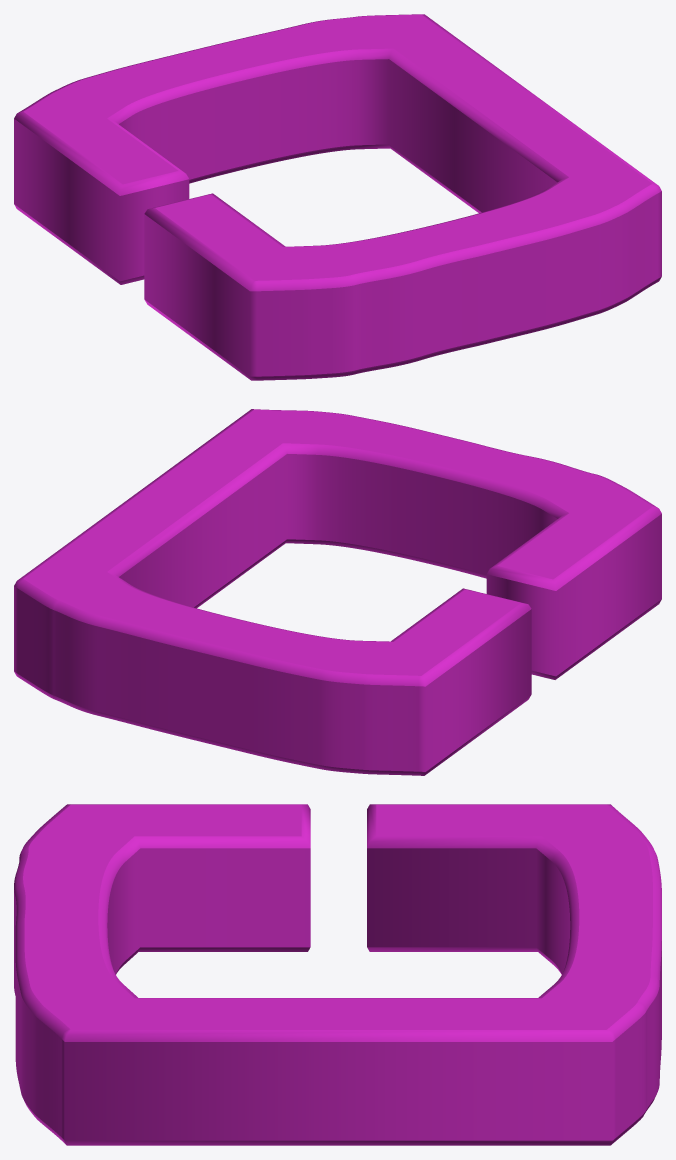
File: Letter_C_Capital_CoolFont.fbx
The picture shows the model from 3 angles, top to bottom: view 1: azimuth 30°, elevation 25°; view 2: azimuth 150°, elevation 25°; view 3: azimuth 270°, elevation 25°; orthographic projection. The views are drawn at different scales.
Visible parts, largest first — view 1: Letter_C; view 2: Letter_C; view 3: Letter_C.
Part boxes in pixels (box(x1,y1,x2,y2)): Letter_C: box(14, 14, 661, 380); Letter_C: box(14, 409, 661, 775); Letter_C: box(14, 804, 661, 1145).
Bounding box in the file's own units: 0.6057 × 0.14 × 0.7127.
